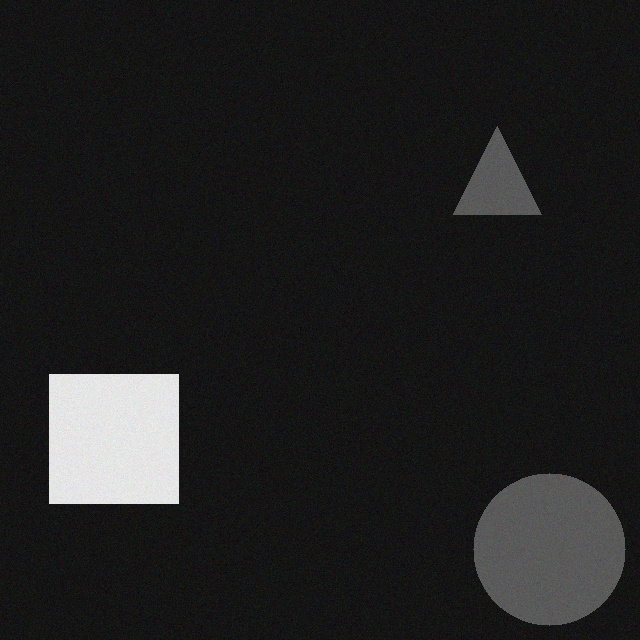circle: (460, 477, 612, 629)
square: (36, 378, 165, 507)
triangle: (440, 130, 528, 218)
